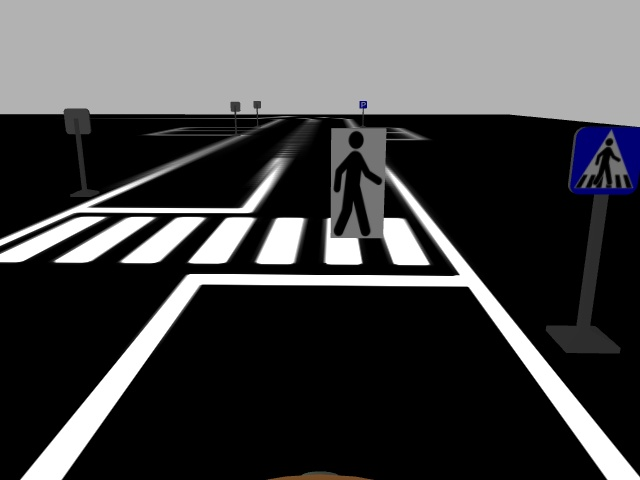crosswalk: (566, 122, 640, 197)
parking: (358, 99, 368, 110)
pedestrian: (329, 125, 385, 241)
